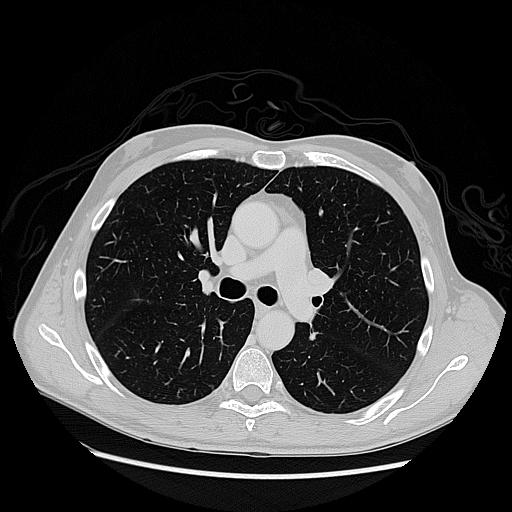nodule: (306, 331, 318, 343)
